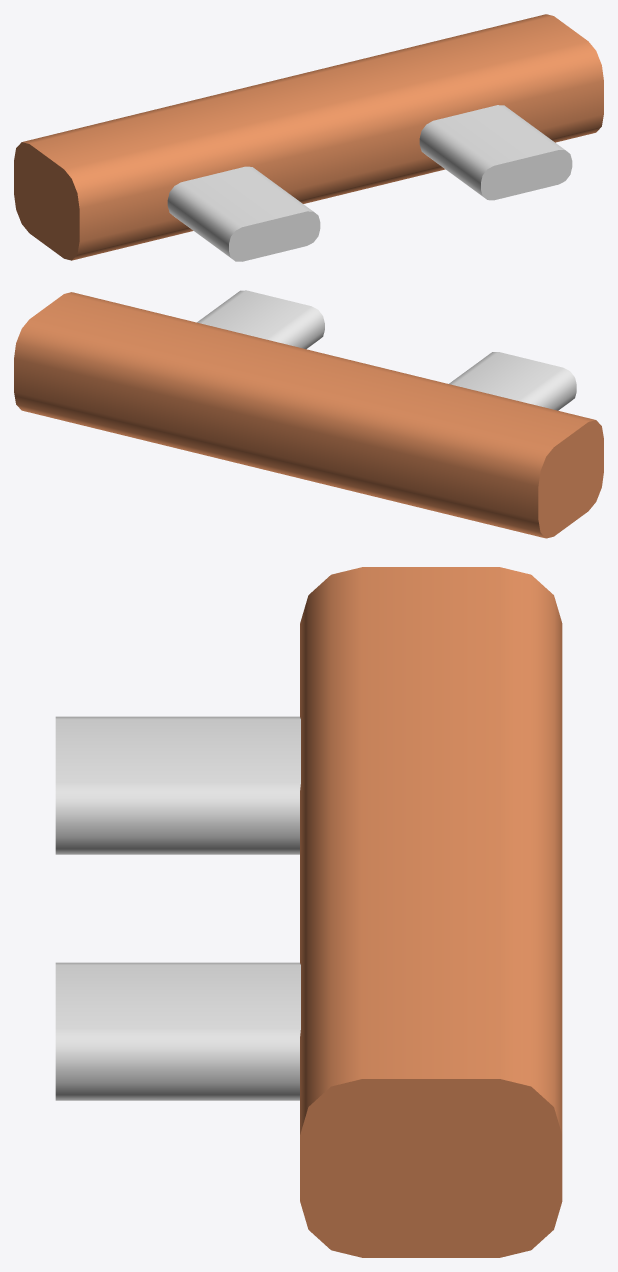
Rendered from Railling_smooth2.fbx.
3 renders of one model, top to bottom at view 1: azimuth 30°, elevation 25°; view 2: azimuth 150°, elevation 25°; view 3: azimuth 270°, elevation 25°, orthographic. The views are drawn at different scales.
Visible parts, largest first — view 1: Railling; view 2: Railling; view 3: Railling.
Part boxes in pixels (x1,y1,x2,y2): Railling: [14, 14, 603, 261]; Railling: [14, 290, 603, 538]; Railling: [55, 567, 562, 1257].
Bounding box in the file's own units: 350 × 57.1 × 147.
